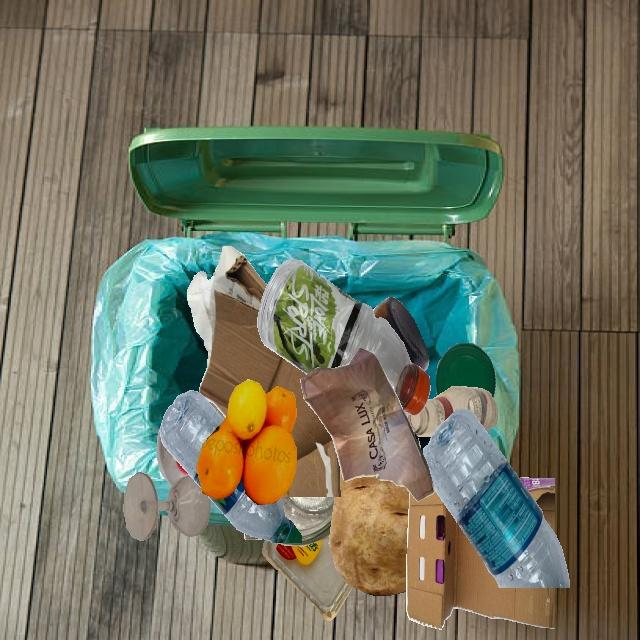biowaste: (196, 379, 297, 504), (328, 464, 409, 596)
cardboard: (187, 246, 340, 497), (406, 488, 555, 629), (262, 443, 418, 539)
glass: (123, 472, 210, 541), (404, 386, 498, 436), (373, 297, 429, 371), (278, 497, 335, 546)
paper: (300, 348, 435, 502)
plastic: (258, 259, 431, 416), (422, 409, 569, 588), (262, 536, 353, 622), (160, 390, 224, 489), (206, 478, 302, 543), (436, 343, 496, 398), (156, 425, 190, 487)
